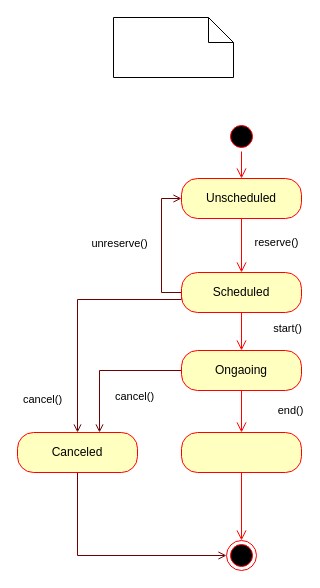
The diagram is 320 pixels wide and 588 high, and some of its shapes have lost their labels. Each missing label, with the centre of its shape:
Completed: [241,452]
Session: [173,47]
